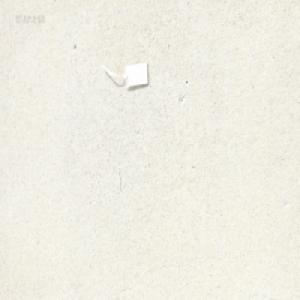LuggageTag: (99, 59, 150, 90)
